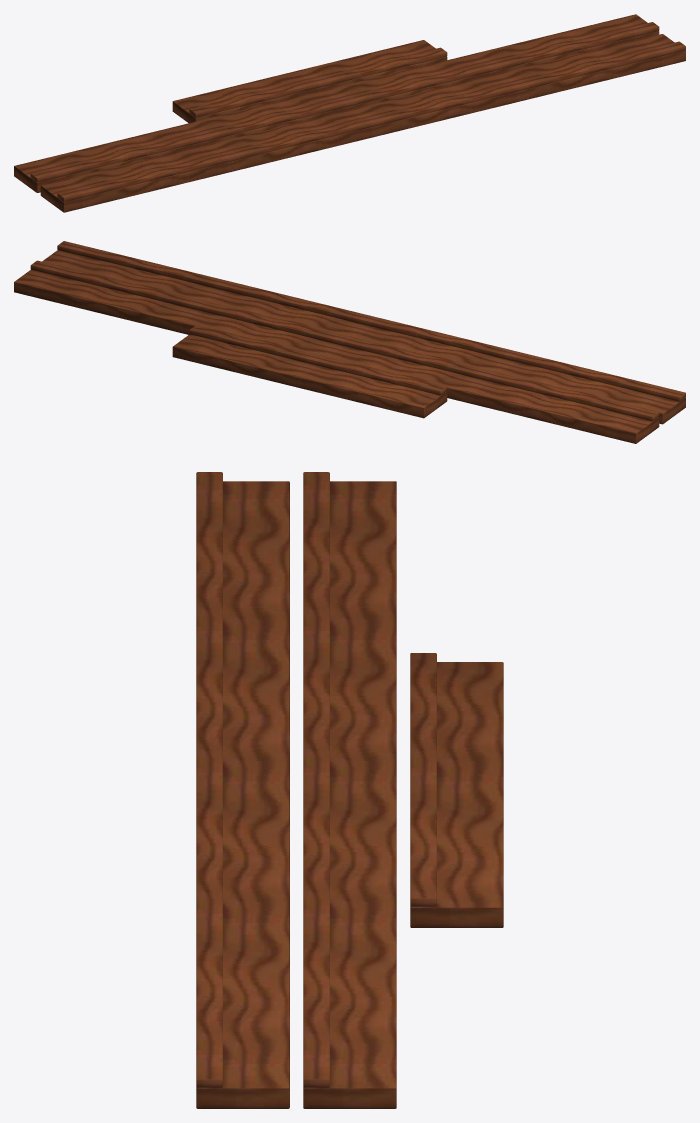
The model's file is ESQ-PMD-004_lod1.glb.
3 views of the same model, one above another, from view 1: azimuth 30°, elevation 25°; view 2: azimuth 150°, elevation 25°; view 3: azimuth 270°, elevation 25° (orthographic). The views are drawn at different scales.
Visible parts, largest first — view 1: ESQ-PMD-004_peca_e, ESQ-PMD-004_peca_d, ESQ-PMD-004_rebaixo_d, ESQ-PMD-004_rebaixo_e, ESQ-PMD-004_peca_c, ESQ-PMD-004_rebaixo_c; view 2: ESQ-PMD-004_peca_d, ESQ-PMD-004_peca_e, ESQ-PMD-004_peca_c, ESQ-PMD-004_rebaixo_d, ESQ-PMD-004_rebaixo_e, ESQ-PMD-004_rebaixo_c; view 3: ESQ-PMD-004_peca_d, ESQ-PMD-004_peca_e, ESQ-PMD-004_peca_c, ESQ-PMD-004_rebaixo_d, ESQ-PMD-004_rebaixo_e, ESQ-PMD-004_rebaixo_c.
Part boxes in pixels (x1,y1,x2,y2): ESQ-PMD-004_peca_e: [40, 34, 685, 212]; ESQ-PMD-004_peca_d: [14, 14, 659, 192]; ESQ-PMD-004_rebaixo_d: [30, 22, 659, 182]; ESQ-PMD-004_rebaixo_e: [57, 41, 685, 201]; ESQ-PMD-004_peca_c: [172, 40, 447, 123]; ESQ-PMD-004_rebaixo_c: [189, 47, 447, 117]; ESQ-PMD-004_peca_d: [14, 269, 659, 443]; ESQ-PMD-004_peca_e: [42, 250, 685, 424]; ESQ-PMD-004_peca_c: [172, 334, 447, 418]; ESQ-PMD-004_rebaixo_d: [30, 260, 659, 420]; ESQ-PMD-004_rebaixo_e: [57, 241, 685, 401]; ESQ-PMD-004_rebaixo_c: [189, 325, 447, 395]; ESQ-PMD-004_peca_d: [303, 481, 396, 1108]; ESQ-PMD-004_peca_e: [196, 481, 289, 1108]; ESQ-PMD-004_peca_c: [410, 662, 503, 927]; ESQ-PMD-004_rebaixo_d: [303, 472, 329, 1087]; ESQ-PMD-004_rebaixo_e: [196, 472, 222, 1087]; ESQ-PMD-004_rebaixo_c: [410, 653, 436, 906].
Bounding box in the file's own units: 2.15 × 0.05 × 0.46.
Materials: 1 (1 with a texture image).
